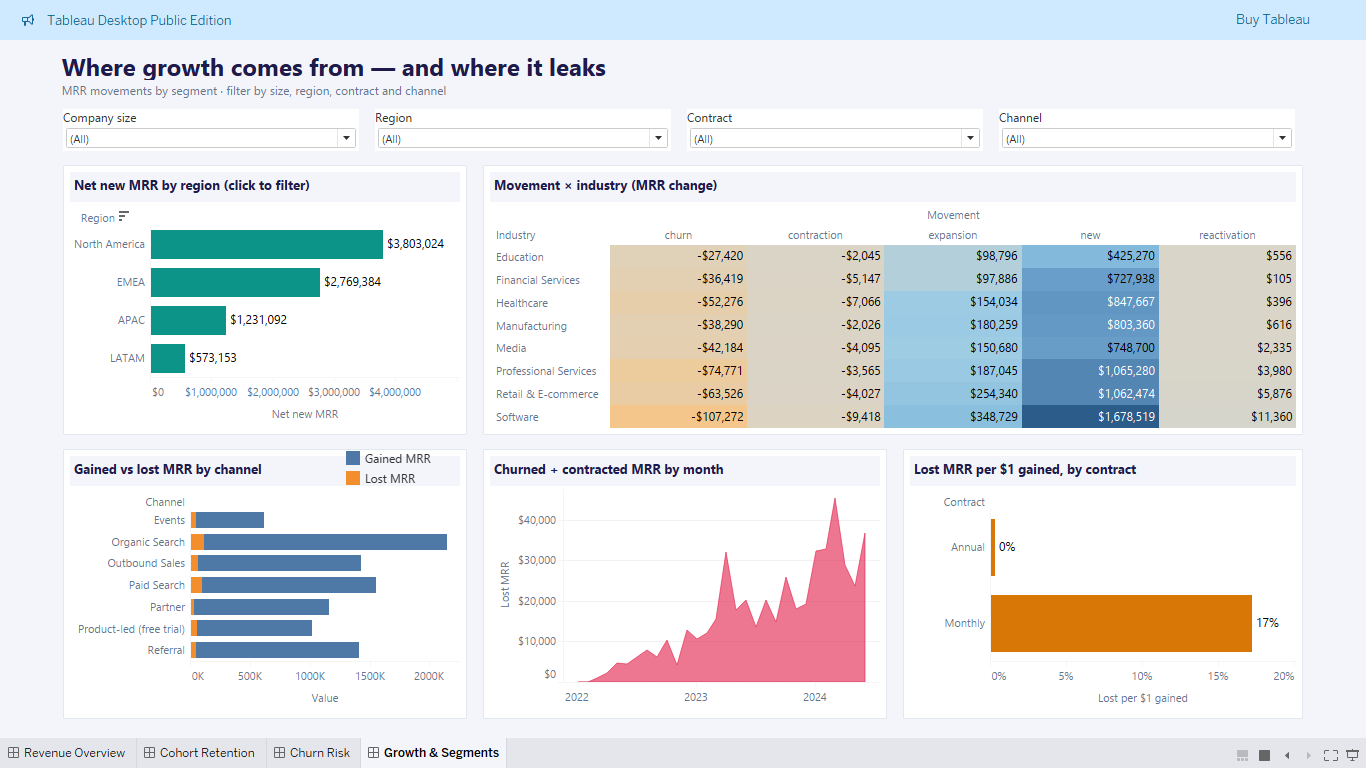

This screenshot's page, from the dashboard's own definition file:
{"tool":"tableau","page":{"name":"Growth & Segments","canvas":[1280,690],"ordinal":1},"visuals":[{"type":"text","box":[16,7.7,900,28.8]},{"type":"text","box":[16,36.4,900,21.1]},{"type":"filter","title":"Movements by region","param":"[federated.85b51ace16ad425d5d1e15832fc3].[none:company_size:nk]","box":[16,61.3,304,49.8]},{"type":"filter","title":"Movements by region","param":"[federated.85b51ace16ad425d5d1e15832fc3].[none:region:nk]","box":[328,61.3,304,49.8]},{"type":"filter","title":"Movements by region","param":"[federated.85b51ace16ad425d5d1e15832fc3].[none:contract_type:nk]","box":[640,61.3,304,49.8]},{"type":"filter","title":"Movements by region","param":"[federated.85b51ace16ad425d5d1e15832fc3].[none:acquisition_channel:nk]","box":[952,61.3,304,49.8]},{"type":"worksheet","title":"Movements by region","mark":"Bar","rows":["region"],"cols":["Net new MRR"],"box":[16,116.9,412,277.9]},{"type":"worksheet","title":"Movement heatmap","mark":"Square","rows":["industry"],"cols":["movement"],"box":[436,116.9,828,277.9]},{"type":"worksheet","title":"Channel economics","mark":"Bar","rows":["acquisition_channel"],"box":[16,400.6,412,277.9]},{"type":"worksheet","title":"Churn MRR trend","mark":"Area","rows":["Lost MRR"],"cols":["month"],"box":[436,400.6,412,277.9]},{"type":"worksheet","title":"Loss ratio by contract","mark":"Bar","rows":["contract_type"],"cols":["Gross loss ratio"],"box":[856,400.6,408,277.9]},{"type":"legend","title":"Channel economics","param":"[federated.85b51ace16ad425d5d1e15832fc3].[:Measure Names]","box":[300,404.4,122,47.9]}]}

Visuals, with their boxes on the page's 1280x690 design canvas (x1, y1, x2, y2). These are canvas units, not pixel positions in the 1366x768 screenshot, which may show the page scaled, cropped or inside an application window:
text: [left=16, top=8, right=916, bottom=36]
text: [left=16, top=36, right=916, bottom=58]
"Movements by region" filter: [left=16, top=61, right=320, bottom=111]
"Movements by region" filter: [left=328, top=61, right=632, bottom=111]
"Movements by region" filter: [left=640, top=61, right=944, bottom=111]
"Movements by region" filter: [left=952, top=61, right=1256, bottom=111]
"Movements by region" worksheet (Bar marks): [left=16, top=117, right=428, bottom=395]
"Movement heatmap" worksheet (Square marks): [left=436, top=117, right=1264, bottom=395]
"Channel economics" worksheet (Bar marks): [left=16, top=401, right=428, bottom=678]
"Churn MRR trend" worksheet (Area marks): [left=436, top=401, right=848, bottom=678]
"Loss ratio by contract" worksheet (Bar marks): [left=856, top=401, right=1264, bottom=678]
"Channel economics" legend: [left=300, top=404, right=422, bottom=452]
